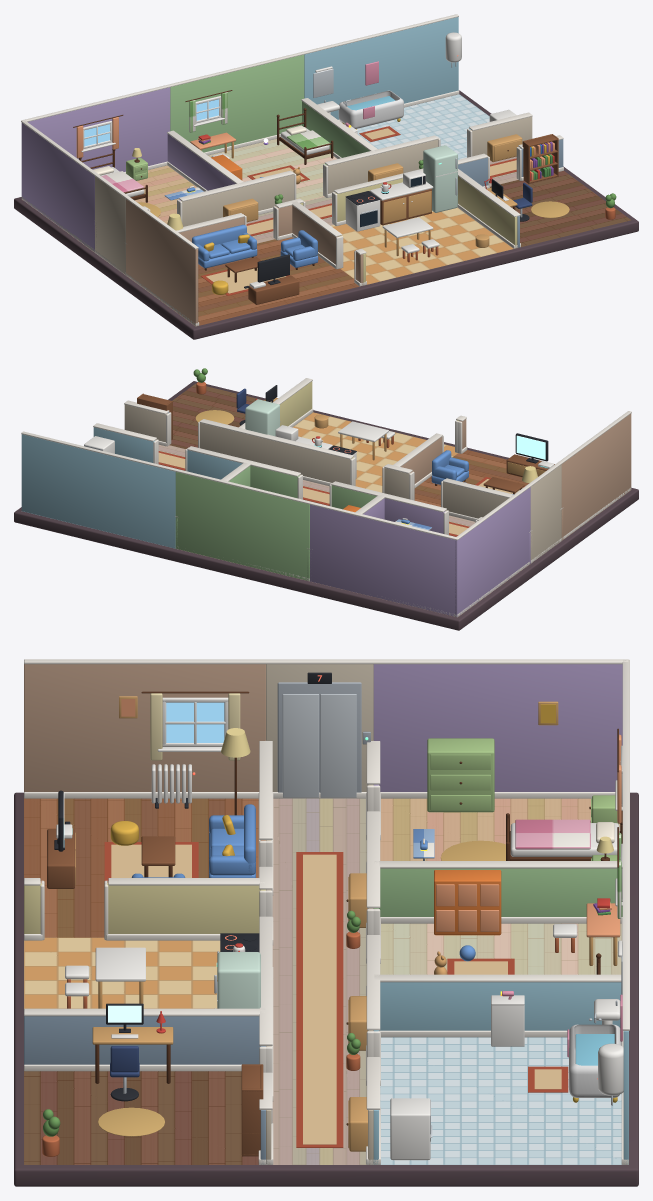
The model's file is floor7.glb.
The picture shows the model from 3 angles, top to bottom: view 1: azimuth 30°, elevation 25°; view 2: azimuth 150°, elevation 25°; view 3: azimuth 270°, elevation 25°; orthographic projection. The views are drawn at different scales.
Visible parts, largest first — view 1: slab, wall_bath_y9.0_0, wall_kids_y9.0_0, floor_kitchen, wall_bedroom_y9.0_0, wall_bedroom_x0.0_0, wall_living_x0.0_0, floor_study, floor_living, floor_bath, floor_kids, wall_hall_y5.2_1 (+38 smaller); view 2: wall_bath_y9.0_0, wall_bedroom_y9.0_0, wall_kids_y9.0_0, slab, wall_bedroom_x0.0_0, wall_living_x0.0_0, wall_hall_y3.6_2, floor_kitchen, floor_study, wall_hall_x0.0_0, floor_living, cap_ext_north (+22 smaller); view 3: wall_bedroom_x0.0_0, wall_living_x0.0_0, floor_bath, slab, floor_study, floor_hall, floor_living, floor_kitchen, rug_in.003, wall_bath_x8.4_0, wall_study_x9.6_0, floor_kids (+58 smaller).
Boxes of the visible parts, <box> form: slab: <box>14,90,638,339</box>; wall_bath_y9.0_0: <box>304,17,458,119</box>; wall_kids_y9.0_0: <box>170,54,304,152</box>; floor_kitchen: <box>331,207,513,284</box>; wall_bedroom_y9.0_0: <box>22,87,170,171</box>; wall_bedroom_x0.0_0: <box>21,123,94,250</box>; wall_living_x0.0_0: <box>126,199,198,325</box>; floor_study: <box>490,171,630,247</box>; floor_living: <box>128,237,359,325</box>; floor_bath: <box>344,94,489,159</box>; floor_kids: <box>208,139,336,201</box>; wall_hall_y5.2_1: <box>180,174,294,226</box>; wall_bath_y9.0_0: <box>21,434,175,548</box>; wall_bedroom_y9.0_0: <box>310,504,457,617</box>; wall_kids_y9.0_0: <box>175,472,309,580</box>; slab: <box>14,381,638,630</box>; wall_bedroom_x0.0_0: <box>455,487,530,616</box>; wall_living_x0.0_0: <box>561,413,631,538</box>; wall_hall_y3.6_2: <box>200,423,352,484</box>; floor_kitchen: <box>293,412,457,492</box>; floor_study: <box>169,383,263,448</box>; wall_hall_x0.0_0: <box>530,464,561,561</box>; floor_living: <box>414,450,629,539</box>; cap_ext_north: <box>21,431,457,540</box>; wall_bedroom_x0.0_0: <box>373,664,622,791</box>; wall_living_x0.0_0: <box>24,664,265,791</box>; floor_bath: <box>380,1037,628,1164</box>; slab: <box>14,792,638,1186</box>; floor_study: <box>24,1071,258,1164</box>; floor_hall: <box>272,798,373,1164</box>; floor_living: <box>24,798,258,937</box>; floor_kitchen: <box>24,937,220,1008</box>; rug_in.003: <box>303,854,336,1144</box>; wall_bath_x8.4_0: <box>379,982,621,1030</box>; wall_study_x9.6_0: <box>24,1016,260,1064</box>; floor_kids: <box>380,923,621,974</box>.
Size of the model in its own units: 13.3 by 2.54 by 9.3.
62 materials, 10 textured.
